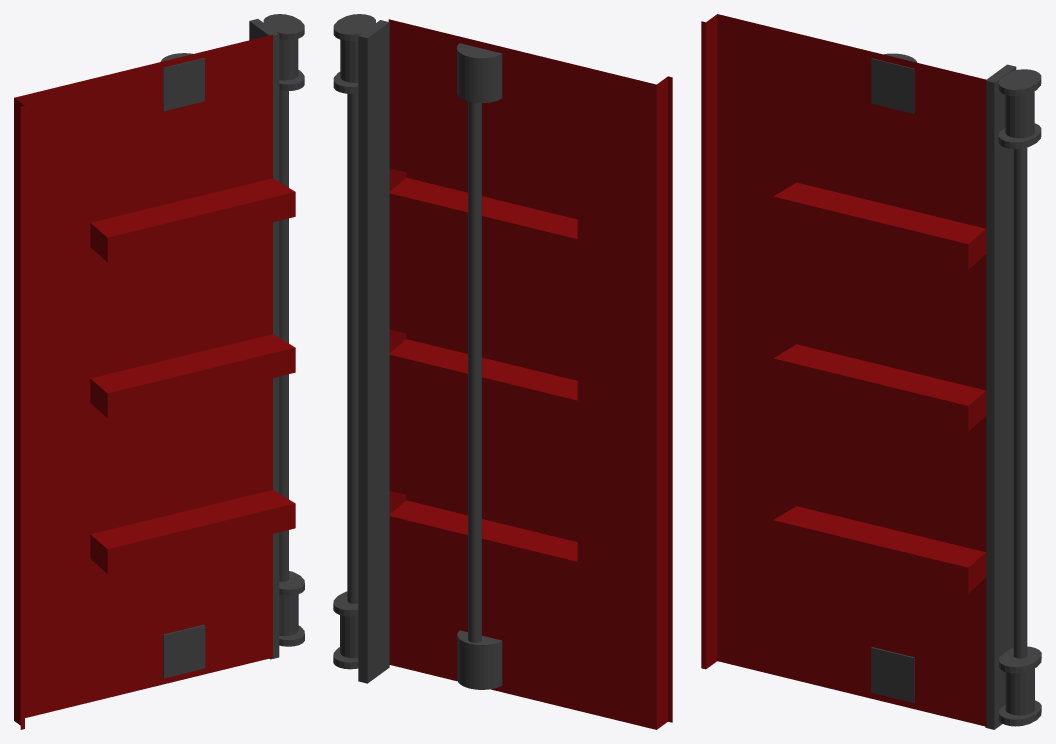
Rendered from pintu1.obj.
3 views of the same model, side by side, from view 1: azimuth 30°, elevation 25°; view 2: azimuth 150°, elevation 25°; view 3: azimuth 330°, elevation 25° (orthographic). The views are drawn at different scales.
Parts seen in each view (by area): view 1: ContainerMerah.007; view 2: ContainerMerah.007; view 3: ContainerMerah.007.
Boxes of the visible parts, left/top/right/bottom form: ContainerMerah.007: left=14, top=14, right=304, bottom=729; ContainerMerah.007: left=333, top=14, right=672, bottom=729; ContainerMerah.007: left=701, top=14, right=1041, bottom=729.
Size of the model in its own units: 2.57 by 5.09 by 0.6332.
